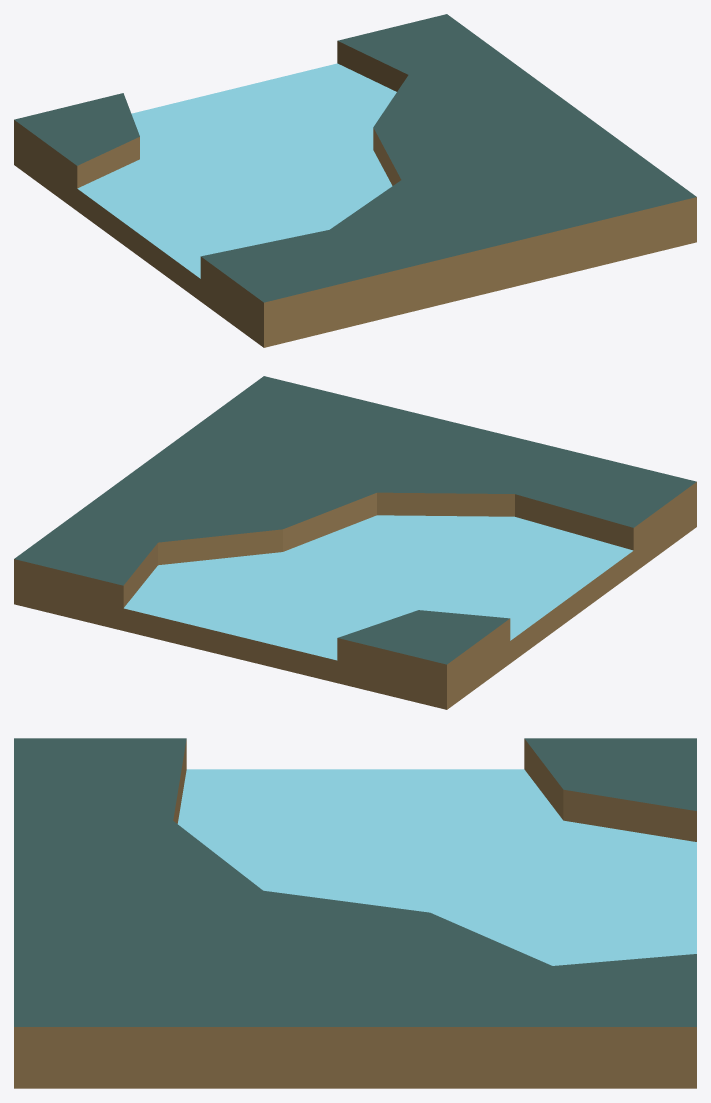
File: Plate_River_Corner_Dirt_01.fbx
The picture shows the model from 3 angles, top to bottom: view 1: azimuth 30°, elevation 25°; view 2: azimuth 150°, elevation 25°; view 3: azimuth 270°, elevation 25°; orthographic projection. The views are drawn at different scales.
Visible parts, largest first — view 1: Mesh1_Plate_River_Corner_Dirt Model; view 2: Mesh1_Plate_River_Corner_Dirt Model; view 3: Mesh1_Plate_River_Corner_Dirt Model.
Part boxes in pixels (x1=…): Mesh1_Plate_River_Corner_Dirt Model: x1=14, y1=14, x2=696, y2=347; Mesh1_Plate_River_Corner_Dirt Model: x1=14, y1=376, x2=696, y2=709; Mesh1_Plate_River_Corner_Dirt Model: x1=14, y1=738, x2=696, y2=1088.
Bounding box in the file's own units: 3 × 0.3 × 3.
